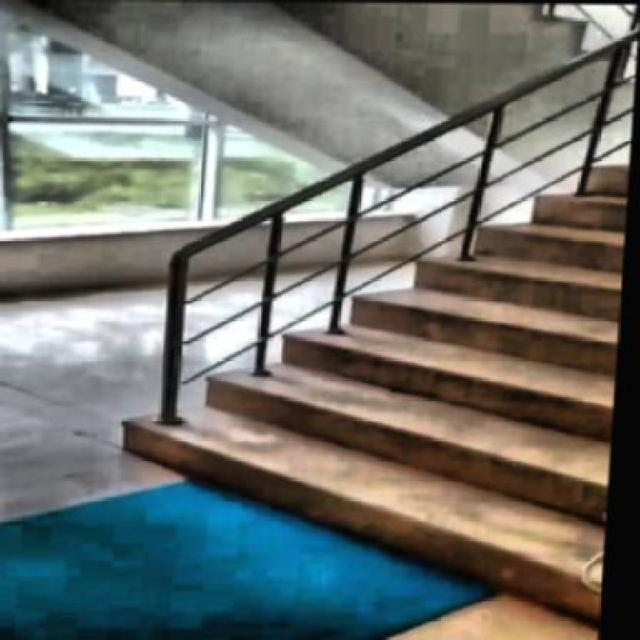stair: (89, 91, 634, 638)
